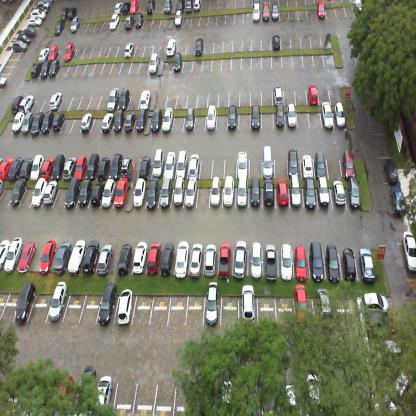car: (384, 367, 411, 415), (76, 363, 96, 412), (368, 337, 404, 364), (46, 290, 69, 326), (96, 288, 118, 324), (354, 240, 374, 277), (56, 372, 74, 413), (362, 288, 388, 316), (114, 289, 136, 322), (13, 289, 36, 320), (364, 314, 395, 337), (4, 236, 22, 275), (145, 240, 165, 275), (324, 242, 342, 280), (202, 293, 221, 329), (315, 288, 332, 327), (96, 374, 112, 415), (41, 239, 60, 273), (68, 240, 87, 274), (241, 283, 256, 326), (76, 176, 94, 210), (144, 177, 162, 211), (293, 243, 311, 277), (17, 240, 35, 274), (53, 241, 72, 273), (82, 240, 100, 273), (340, 241, 356, 278), (88, 174, 105, 208), (278, 244, 295, 278), (310, 242, 326, 278), (160, 241, 177, 274), (174, 243, 191, 276), (402, 230, 416, 270), (294, 285, 308, 325), (306, 370, 319, 413), (203, 241, 218, 278), (170, 176, 186, 210), (188, 242, 204, 276), (263, 243, 279, 277), (30, 178, 47, 210), (344, 176, 362, 206), (234, 241, 249, 277), (65, 176, 81, 209), (113, 177, 129, 210), (156, 178, 172, 211), (132, 240, 148, 273), (217, 242, 233, 275), (219, 378, 233, 415), (100, 178, 116, 210), (96, 244, 113, 274), (248, 240, 263, 274), (316, 177, 332, 208), (314, 148, 330, 178), (118, 242, 134, 272), (9, 180, 26, 207), (133, 177, 146, 212), (73, 154, 91, 179), (390, 186, 405, 216), (383, 156, 398, 186), (341, 149, 357, 177), (84, 153, 101, 179), (330, 179, 345, 208), (288, 180, 304, 207), (122, 106, 137, 134), (288, 147, 302, 177), (301, 148, 315, 178), (235, 179, 249, 209), (262, 178, 276, 208), (276, 179, 290, 209), (283, 380, 295, 415), (51, 152, 65, 182), (96, 154, 112, 180), (209, 180, 223, 209), (304, 178, 317, 209), (122, 155, 138, 180), (8, 155, 24, 180), (101, 107, 115, 135), (112, 107, 126, 135), (332, 101, 347, 127), (186, 152, 201, 178), (40, 109, 55, 135), (29, 110, 44, 136), (109, 155, 125, 179), (42, 180, 58, 204), (30, 156, 45, 181), (0, 240, 11, 274), (184, 179, 196, 210), (133, 108, 147, 134), (149, 154, 163, 180), (138, 155, 153, 179), (263, 147, 275, 177), (249, 179, 261, 209), (150, 106, 163, 133), (164, 152, 178, 177), (224, 179, 236, 208), (174, 153, 188, 177), (19, 156, 33, 180), (0, 156, 14, 180), (106, 88, 120, 111), (11, 111, 25, 134), (40, 156, 54, 178), (79, 112, 93, 134), (162, 107, 174, 132), (237, 152, 249, 177), (62, 157, 75, 180), (138, 88, 151, 111), (19, 111, 32, 134), (321, 104, 334, 126), (49, 90, 63, 110), (274, 105, 286, 128), (316, 0, 327, 25), (184, 106, 194, 133), (20, 94, 35, 112), (308, 84, 319, 108), (118, 88, 130, 110), (148, 51, 158, 77), (272, 86, 284, 107), (29, 61, 43, 79), (252, 105, 262, 130), (205, 108, 216, 130), (228, 106, 239, 128), (48, 58, 60, 78), (10, 95, 24, 112), (286, 105, 297, 126), (53, 111, 64, 132), (165, 37, 176, 58), (63, 42, 74, 62), (38, 46, 50, 64), (69, 16, 81, 34), (40, 60, 51, 79), (48, 43, 59, 62), (108, 13, 120, 30), (13, 40, 27, 54), (123, 42, 134, 59), (16, 32, 31, 44), (31, 8, 46, 20), (173, 52, 181, 74), (123, 14, 134, 30), (272, 34, 282, 51), (173, 10, 183, 27), (54, 19, 64, 36), (195, 38, 203, 59), (127, 0, 139, 14), (66, 7, 78, 21), (23, 24, 37, 36), (162, 0, 173, 15), (252, 2, 260, 22), (28, 16, 42, 27), (146, 0, 156, 15), (353, 0, 363, 15), (272, 2, 280, 20), (134, 13, 144, 27), (59, 5, 69, 19), (263, 1, 269, 23), (121, 0, 130, 14), (0, 74, 8, 89), (185, 0, 194, 13), (113, 1, 122, 14), (36, 4, 49, 13), (176, 0, 184, 12), (38, 0, 50, 8), (194, 0, 201, 12)
